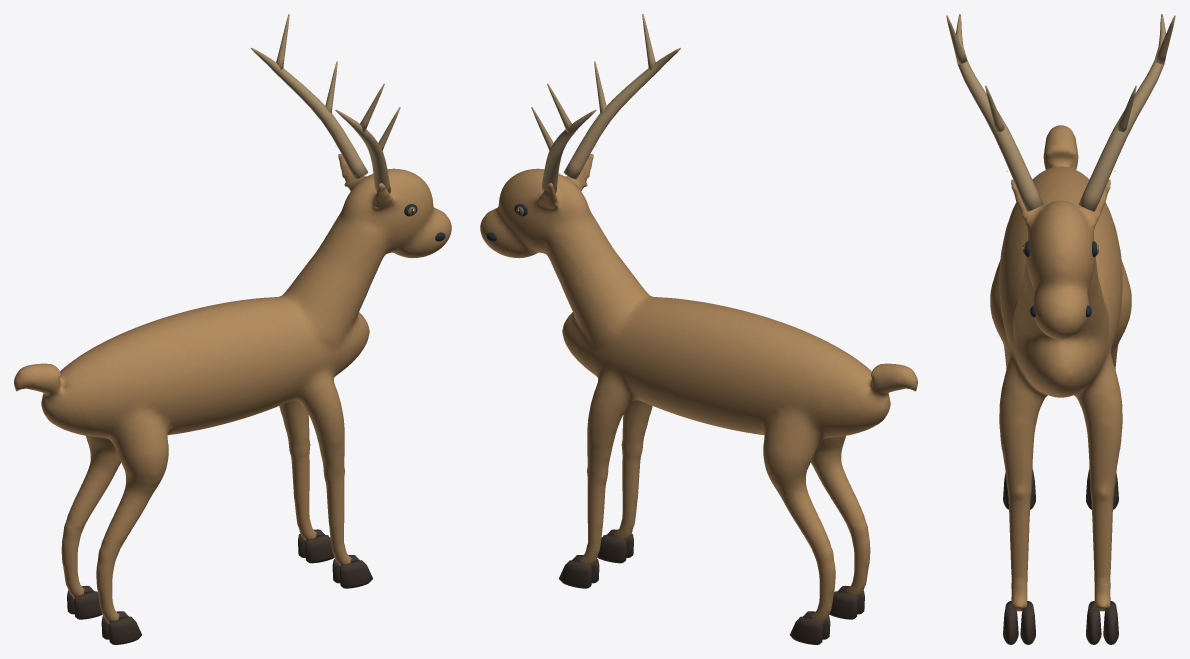
File: deer-standing.glb
3 views of the same model, side by side, from view 1: azimuth 30°, elevation 25°; view 2: azimuth 150°, elevation 25°; view 3: azimuth 270°, elevation 25° (orthographic). The views are drawn at different scales.
Parts seen in each view (by area): view 1: Continuous anatomical skin, Deer antler beam.001, Deer antler beam, Cloven tapered hoof, Cloven tapered hoof.002, Cloven tapered hoof.004, Cloven tapered hoof.006; view 2: Continuous anatomical skin, Deer antler beam, Deer antler beam.001, Cloven tapered hoof.005, Cloven tapered hoof.007, Cloven tapered hoof.001, Cloven tapered hoof.003; view 3: Continuous anatomical skin, Deer antler beam, Deer antler beam.001, Cloven tapered hoof, Cloven tapered hoof.005, Cloven tapered hoof.001, Cloven tapered hoof.004, Antler tine.001, Antler tine.003.
Part boxes in pixels (<box>): Continuous anatomical skin: <box>14,146,451,624</box>; Deer antler beam.001: <box>251,47,368,179</box>; Deer antler beam: <box>335,109,390,193</box>; Cloven tapered hoof: <box>340,560,372,588</box>; Cloven tapered hoof.002: <box>109,616,141,644</box>; Cloven tapered hoof.004: <box>305,534,334,563</box>; Cloven tapered hoof.006: <box>74,591,102,619</box>; Continuous anatomical skin: <box>480,146,917,624</box>; Deer antler beam: <box>563,47,680,179</box>; Deer antler beam.001: <box>541,109,596,193</box>; Cloven tapered hoof.005: <box>559,560,591,588</box>; Cloven tapered hoof.007: <box>790,616,822,644</box>; Cloven tapered hoof.001: <box>597,534,626,563</box>; Cloven tapered hoof.003: <box>829,591,857,619</box>; Continuous anatomical skin: <box>990,125,1131,611</box>; Deer antler beam: <box>955,14,1043,211</box>; Deer antler beam.001: <box>1078,14,1166,211</box>; Cloven tapered hoof: <box>1003,601,1018,644</box>; Cloven tapered hoof.005: <box>1103,601,1118,644</box>; Cloven tapered hoof.001: <box>1020,601,1035,644</box>; Cloven tapered hoof.004: <box>1086,601,1101,644</box>; Antler tine.001: <box>946,15,967,64</box>; Antler tine.003: <box>1154,15,1175,64</box>.
Bounding box in the file's own units: 1.43 × 1.64 × 0.548.
6 materials, 6 textured.
